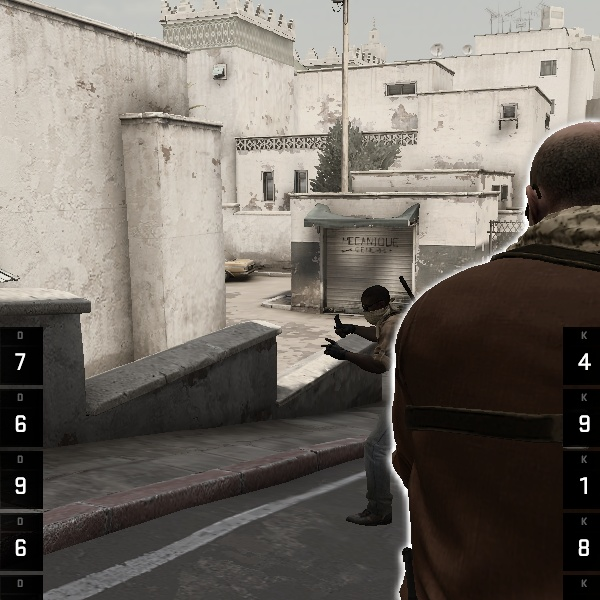t_head: (352, 281, 399, 326)
